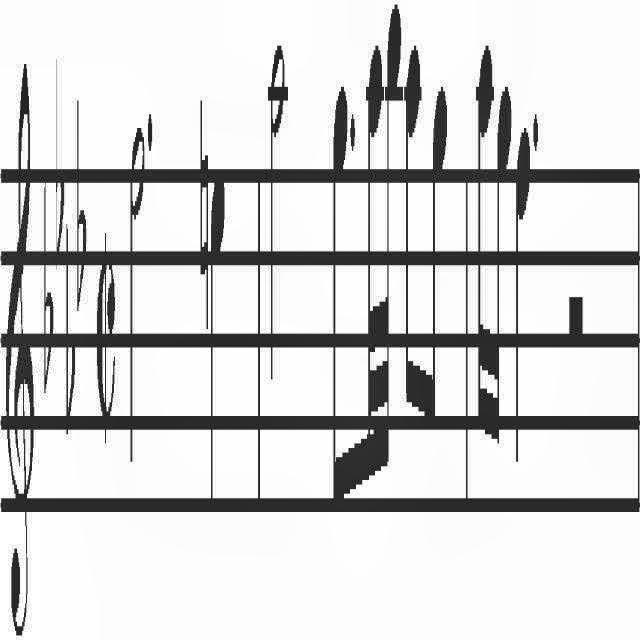Bass-clef: (4, 52, 36, 640)
Bemol: (42, 180, 54, 400), (64, 221, 76, 435), (76, 92, 86, 316), (55, 45, 65, 267)
Eighth-note: (422, 67, 448, 426), (332, 72, 348, 522), (406, 38, 422, 402)
Half-note: (268, 43, 286, 384), (130, 120, 146, 472)
Quarter-note: (210, 168, 227, 516), (514, 117, 530, 471)
Sixteenth-note: (491, 82, 514, 470), (474, 36, 494, 457)
